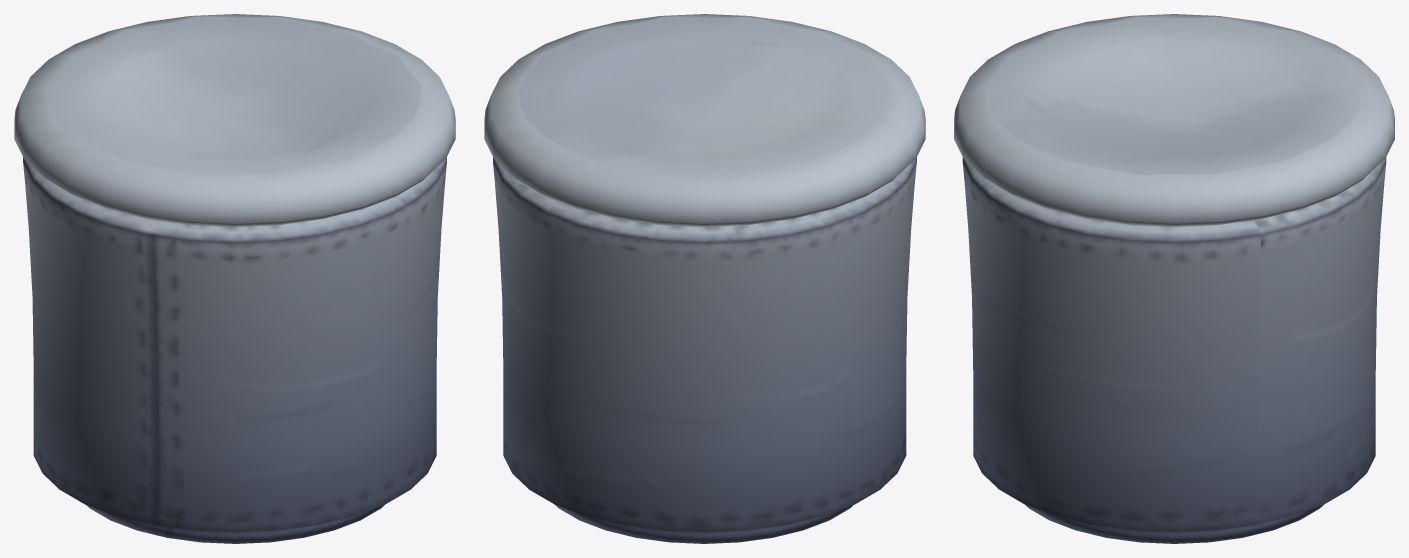
The model's file is Pillow03.fbx.
3 renders of one model, left to right at view 1: azimuth 30°, elevation 25°; view 2: azimuth 150°, elevation 25°; view 3: azimuth 270°, elevation 25°, orthographic.
Parts seen in each view (by area): view 1: Pillow03; view 2: Pillow03; view 3: Pillow03.
Part boxes in pixels (x1,y1,x2,y2): Pillow03: (14,14,455,543); Pillow03: (484,14,925,543); Pillow03: (954,14,1394,543).
Bounding box in the file's own units: 3.84 × 3.69 × 3.82.
